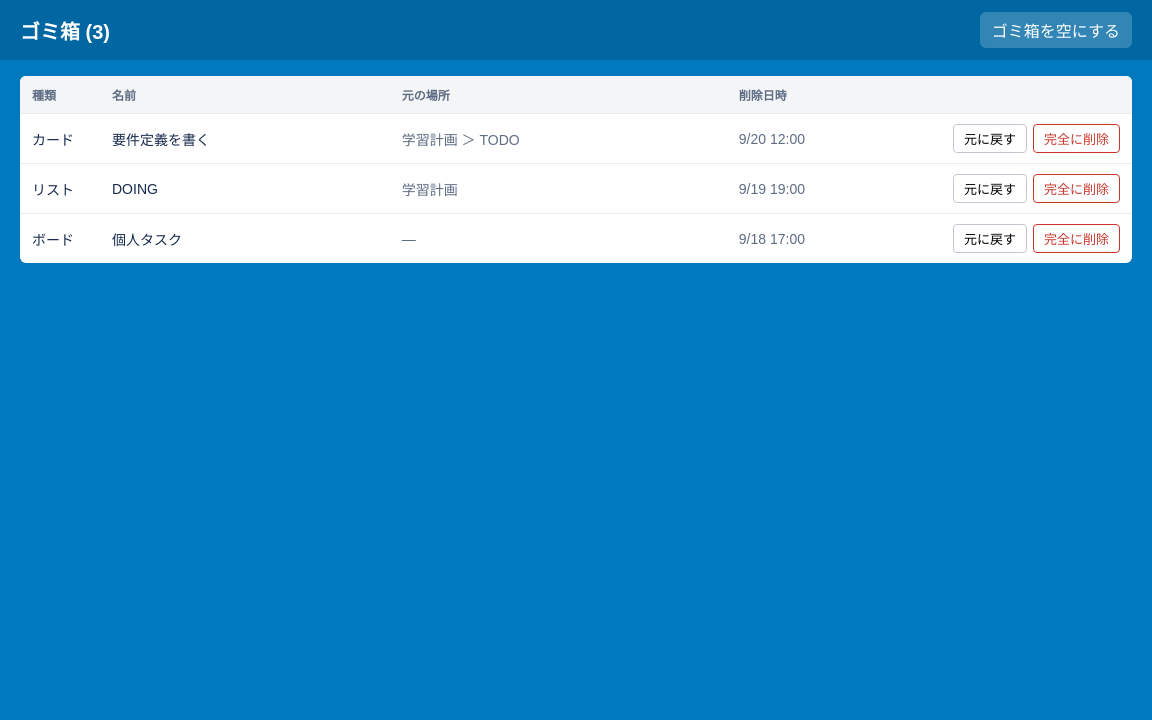
元に戻す（F-42） › message があればお知らせを出す（元のリストが無かったとき）
Click the button "元に戻す" in the row of "カード" at (990, 138), box [953,124,1027,153]
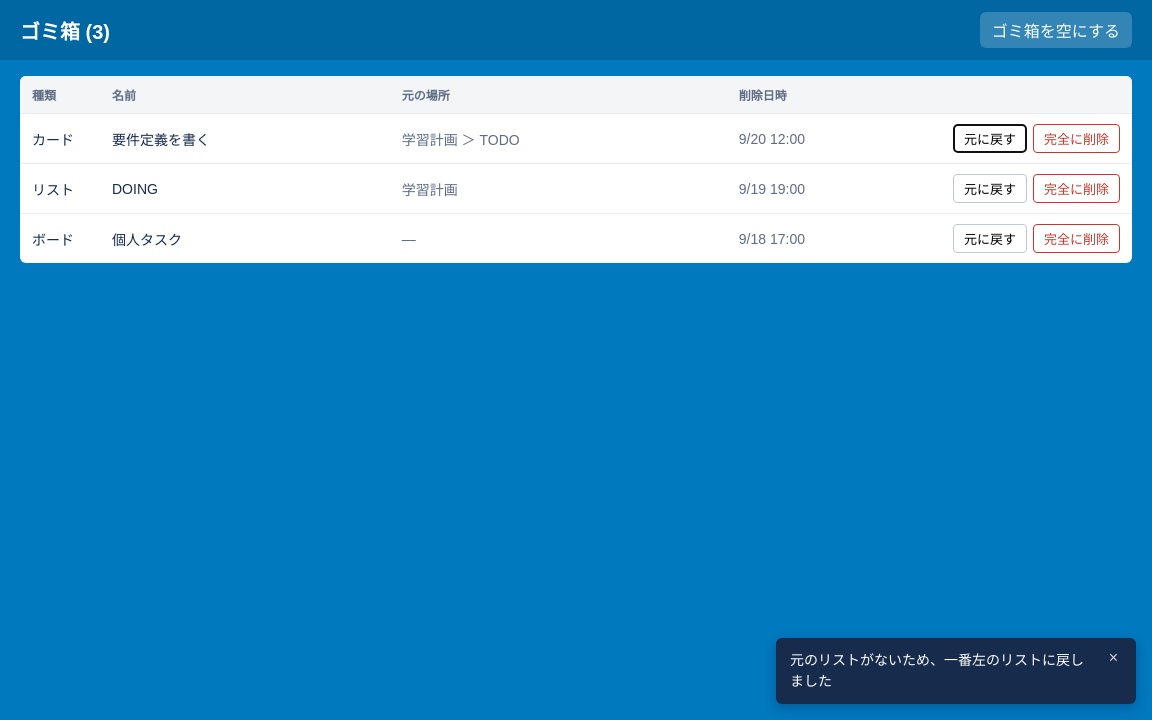
expect the text "元のリストがないため、一番左のリストに戻しました" is shown: met, box [790,650,1093,692]
